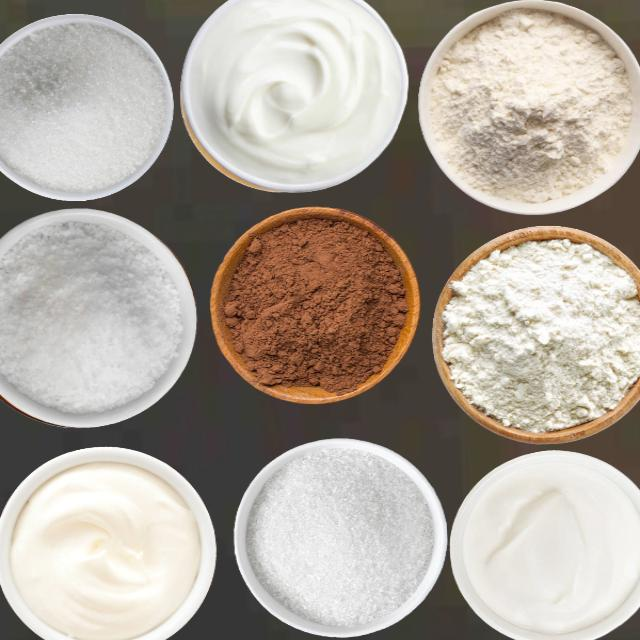Cocoa: (210, 206, 418, 403)
Flour: (428, 8, 633, 203), (440, 237, 639, 433)
Sugar: (0, 219, 183, 414), (245, 444, 434, 628), (0, 19, 168, 193)
